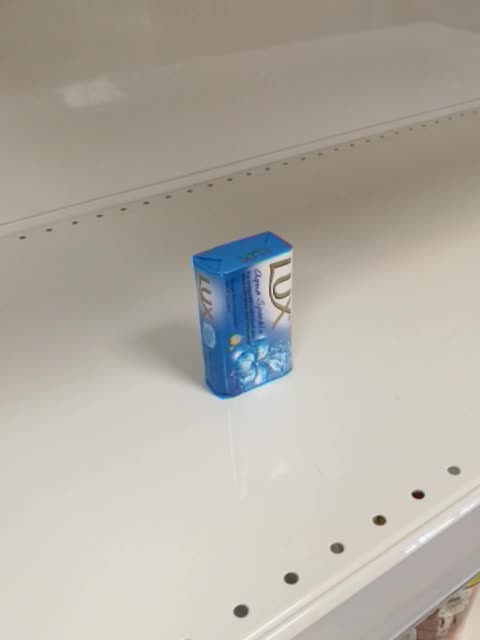soap: (191, 229, 295, 400)
